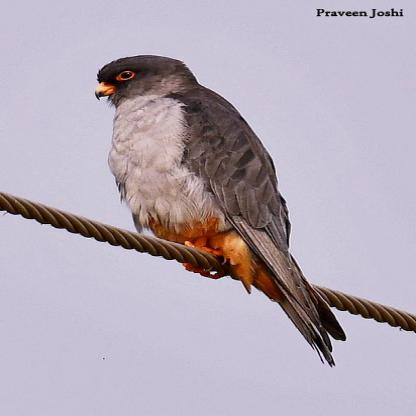Burung: (92, 54, 353, 370)
